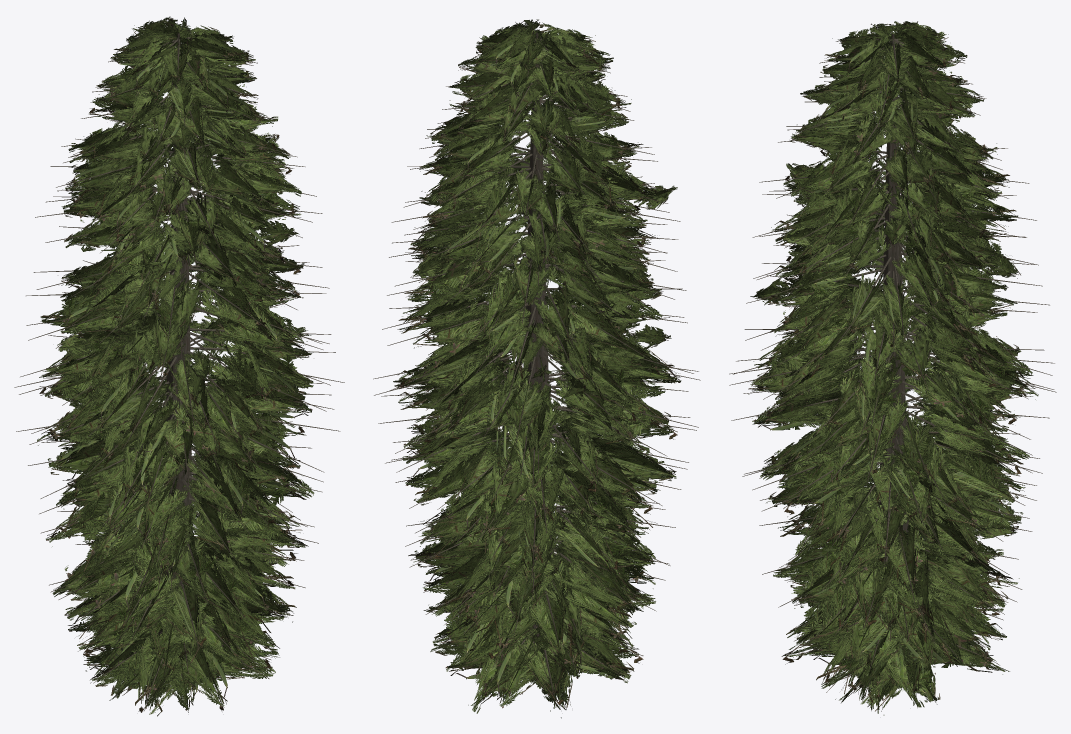
Rendered from conifer_v7_lod0.glb.
The picture shows the model from 3 angles, left to right: view 1: azimuth 30°, elevation 25°; view 2: azimuth 150°, elevation 25°; view 3: azimuth 270°, elevation 25°; orthographic projection.
Parts seen in each view (by area): view 1: conifer_v7_lod0; view 2: conifer_v7_lod0; view 3: conifer_v7_lod0.
Boxes of the visible parts, x1,y1,x2,y2 form: conifer_v7_lod0: (14,16,344,716); conifer_v7_lod0: (373,19,700,718); conifer_v7_lod0: (729,21,1056,715).
Bounding box in the file's own units: 8.34 × 18.9 × 8.44.
1 material, 1 textured.
